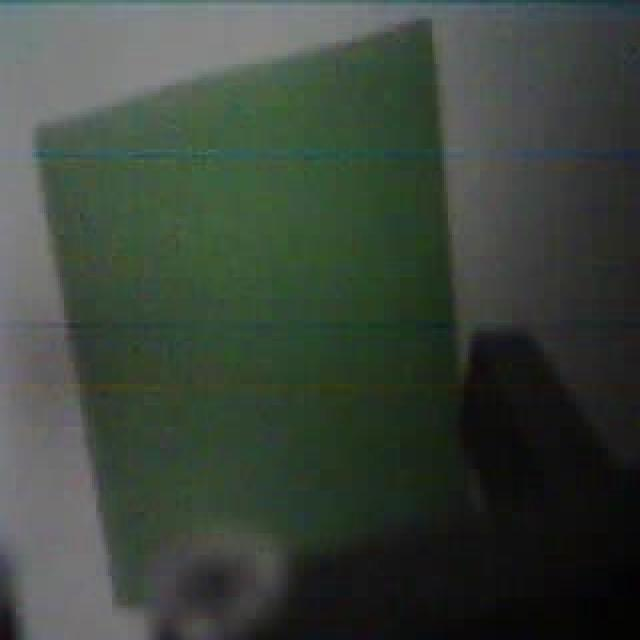green_box: (30, 16, 468, 624)
